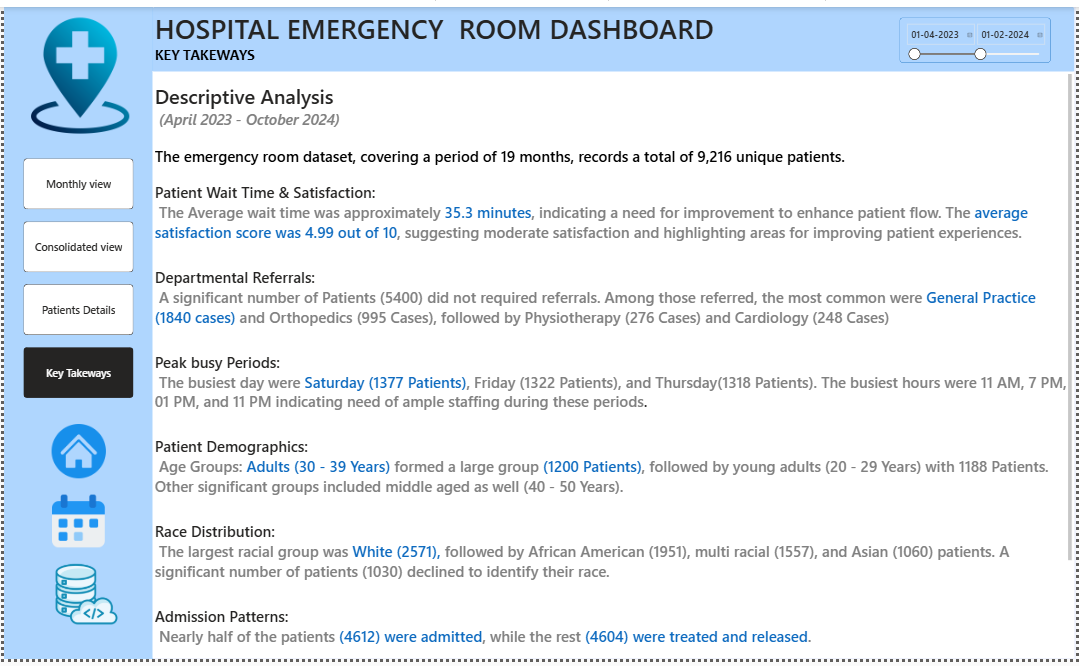

This screenshot's page, from the dashboard's own definition file:
{"tool":"powerbi","page":{"name":"Key Takeways","canvas":[2300,1400],"ordinal":3},"visuals":[{"type":"shape","box":[0,0,320,1400],"z":0},{"type":"shape","box":[319.2,0,1979.7,140],"z":1000},{"type":"textbox","box":[319.2,0,1229.2,98.5],"z":2000},{"type":"textbox","box":[319.5,78,324.4,61],"z":3000},{"type":"slicer","fields":{"Values":["Date Table.Date"]},"box":[1924.4,22,324.4,97.6],"z":4000},{"type":"image","box":[40,10,250,275],"z":5000},{"type":"textbox","box":[320,140,1979,1259],"z":6000},{"type":"pageNavigator","box":[43.3,326.7,236.7,516.7],"z":7000},{"type":"image","box":[90,896.7,140,116.7],"z":8000},{"type":"image","box":[103.3,1190,150,146.7],"z":9000},{"type":"image","box":[103.3,1040,113.3,126.7],"z":10000}]}

Visuals, with their boxes on the page's 2300x1400 design canvas (x1, y1, x2, y2). These are canvas units, not pixel positions in the 1079x666 screenshot, which may show the page scaled, cropped or inside an application window:
shape: 0:0:320:1400
shape: 319:0:2299:140
textbox: 319:0:1548:98
textbox: 320:78:644:139
slicer - Date Table.Date: 1924:22:2249:120
image: 40:10:290:285
textbox: 320:140:2299:1399
pageNavigator: 43:327:280:843
image: 90:897:230:1013
image: 103:1190:253:1337
image: 103:1040:217:1167
